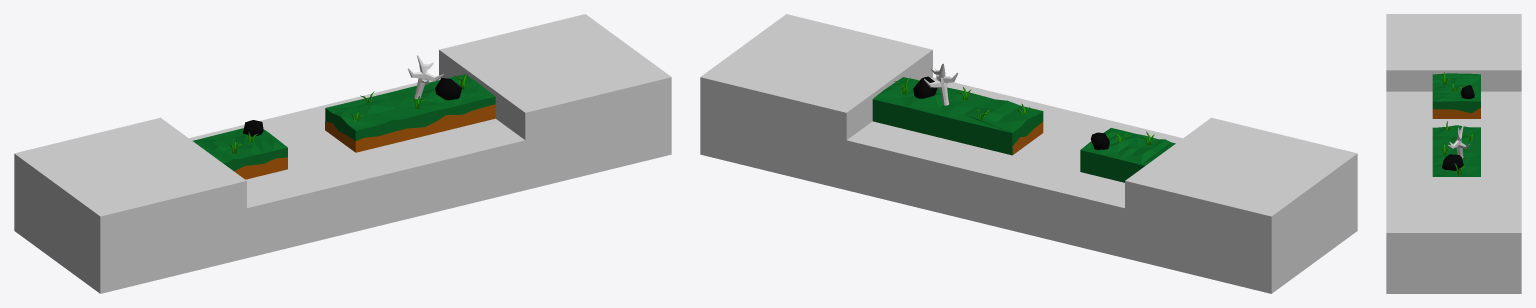
The model's file is Easy_Obstacle_Forest_5.fbx.
3 renders of one model, left to right at view 1: azimuth 30°, elevation 25°; view 2: azimuth 150°, elevation 25°; view 3: azimuth 270°, elevation 25°, orthographic. The views are drawn at different scales.
Parts seen in each view (by area): view 1: Cube, Cube.001, Snow Long Snow Tree.002; view 2: Cube, Cube.001, Snow Long Snow Tree.002; view 3: Cube, Cube.001, Snow Long Snow Tree.002.
Part boxes in pixels (box(x1,y1,x2,y2)): Cube: box(14, 14, 671, 293); Cube.001: box(192, 74, 495, 179); Snow Long Snow Tree.002: box(408, 55, 443, 99); Cube: box(700, 14, 1357, 293); Cube.001: box(872, 76, 1175, 182); Snow Long Snow Tree.002: box(924, 63, 958, 105); Cube: box(1386, 14, 1521, 293); Cube.001: box(1432, 72, 1480, 176); Snow Long Snow Tree.002: box(1448, 126, 1469, 158).
Size of the model in its own units: 10231 by 1942 by 2676.
